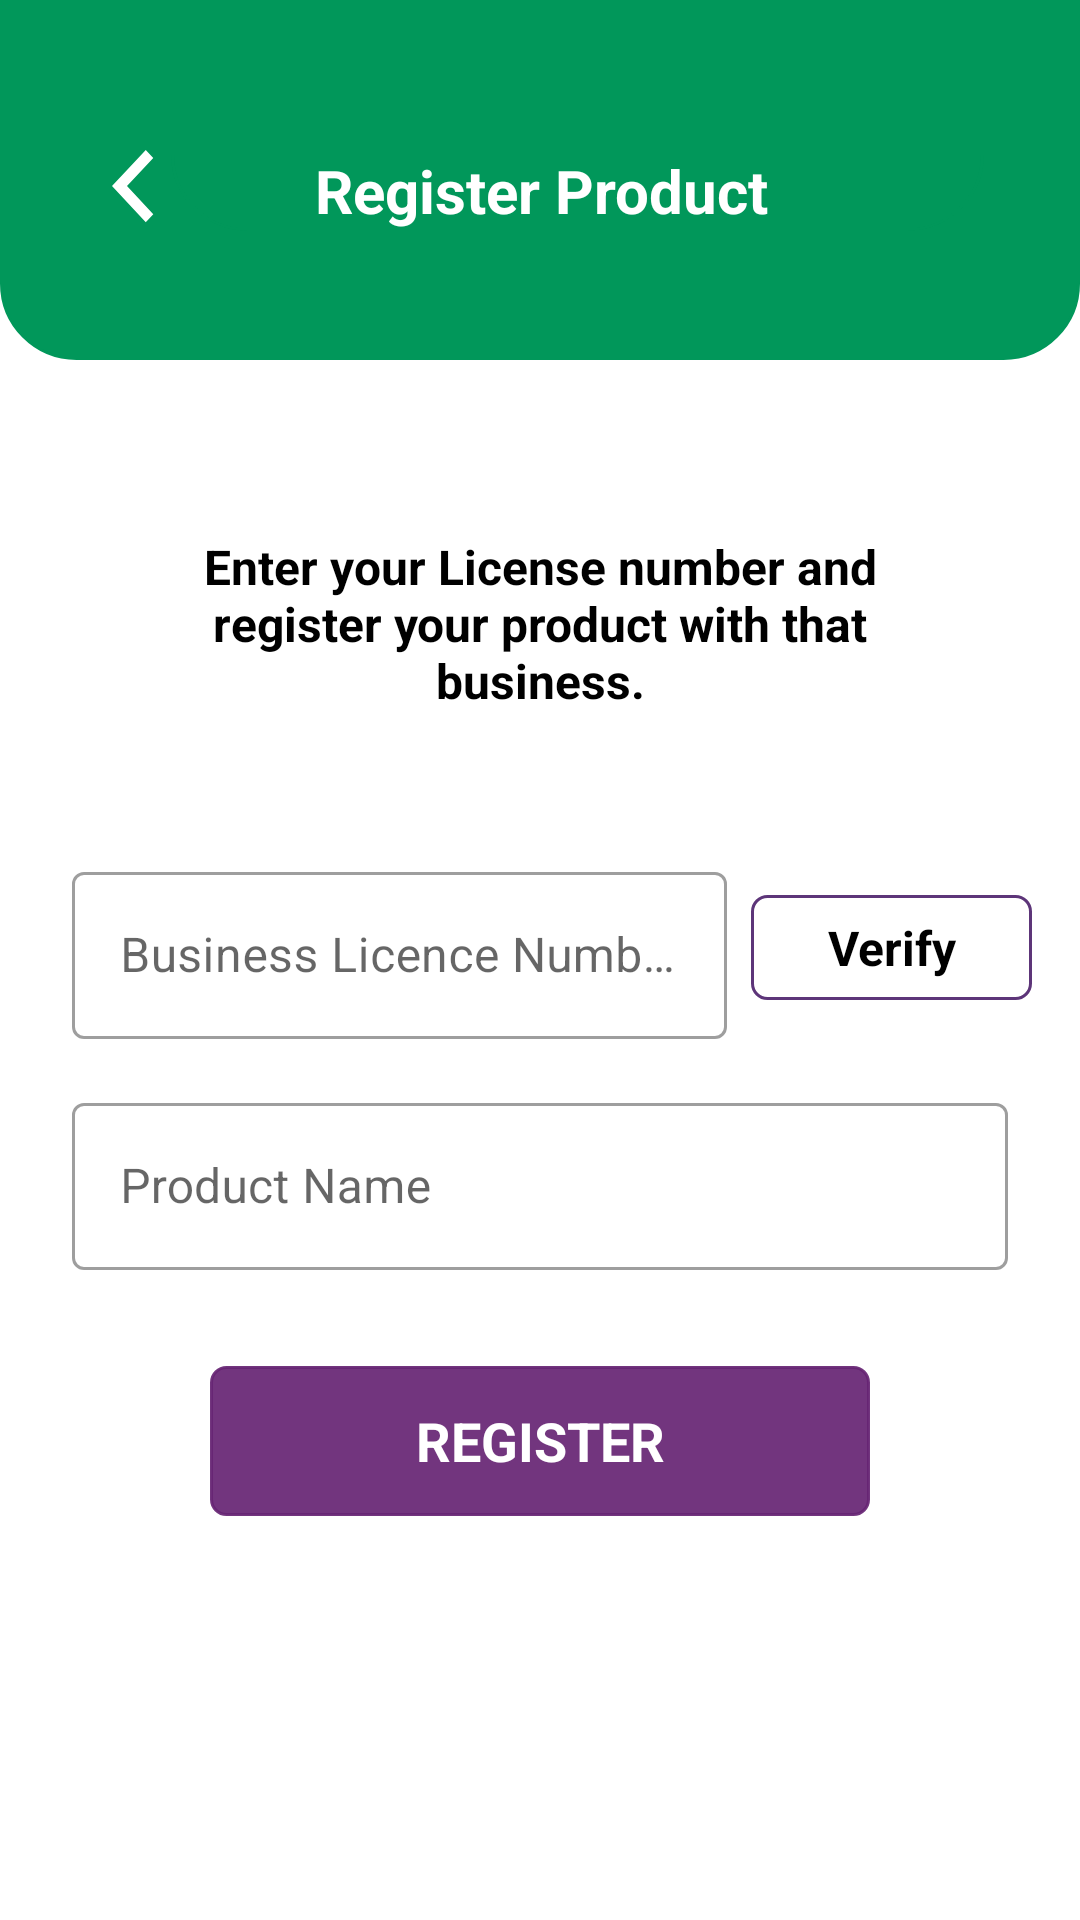

Named icons in this screenshot (1080x1920) and their bounding boxes, bbox(x1, y1, x2, y2):
back: bbox(112, 150, 153, 222)
